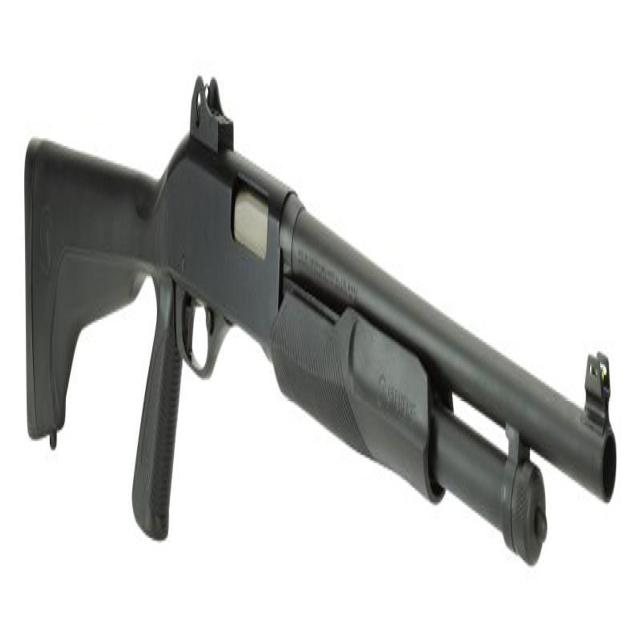ShotGun: (25, 77, 619, 568)
